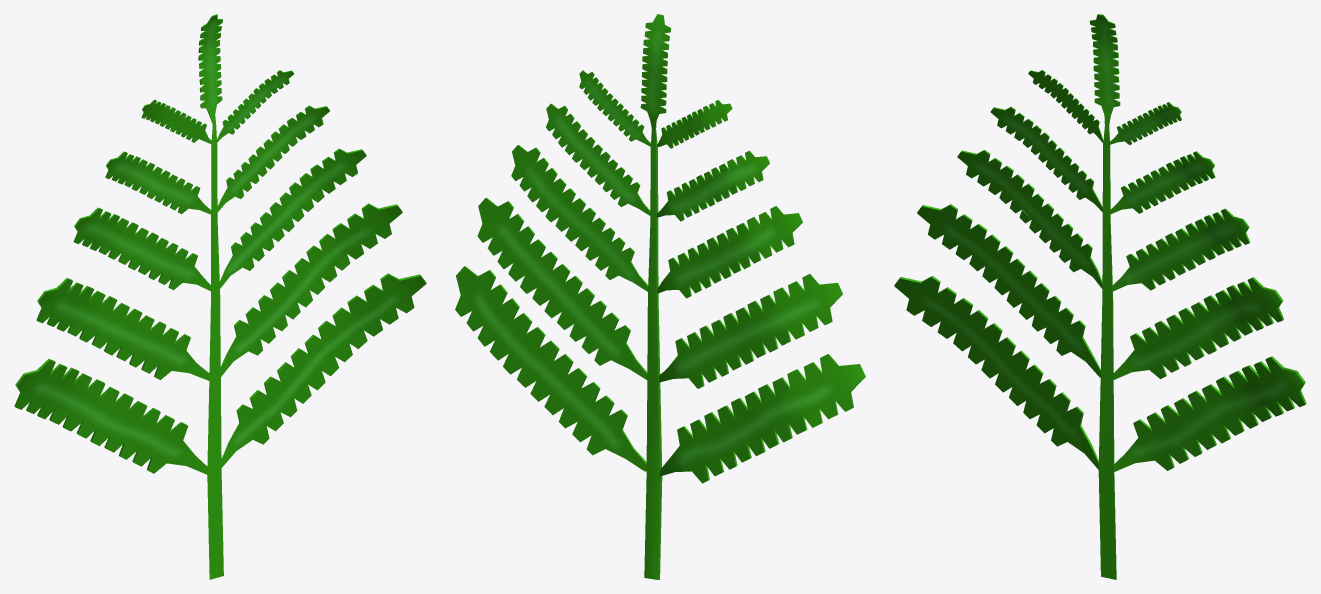
File: helecho alado.fbx
3 views of the same model, side by side, from view 1: azimuth 30°, elevation 25°; view 2: azimuth 150°, elevation 25°; view 3: azimuth 330°, elevation 25° (orthographic).
Parts seen in each view (by area): view 1: Mesh; view 2: Mesh; view 3: Mesh.
Boxes of the visible parts, x1=… form: Mesh: x1=14, y1=14, x2=426, y2=579; Mesh: x1=455, y1=14, x2=865, y2=579; Mesh: x1=894, y1=14, x2=1306, y2=579.
Size of the model in its own units: 133 by 176 by 9.47.
